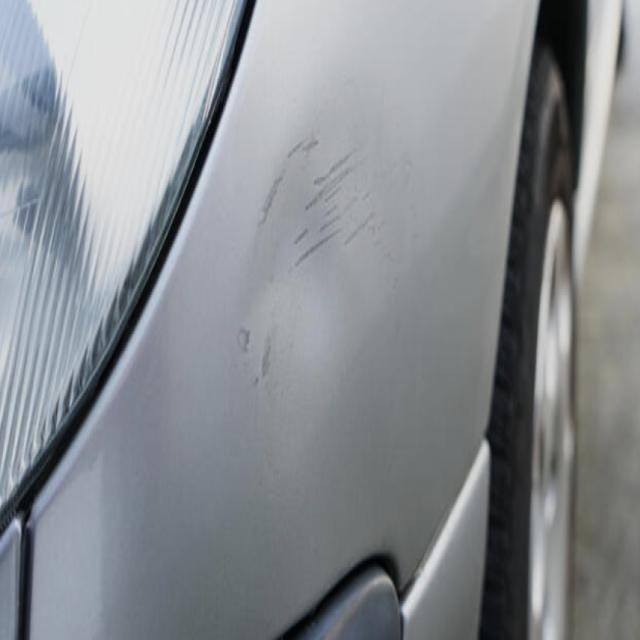scratch: (235, 96, 389, 420)
